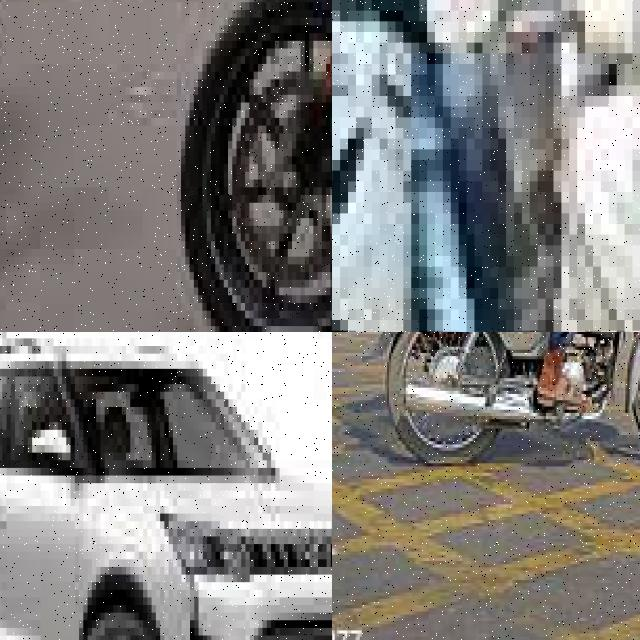bike: (177, 0, 332, 332), (349, 332, 640, 479), (332, 0, 458, 332), (545, 0, 640, 332)
car: (0, 332, 332, 640)
